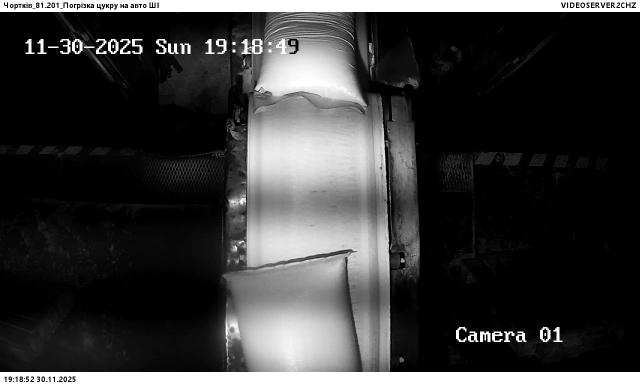bag: (223, 251, 365, 372), (256, 12, 367, 111)
